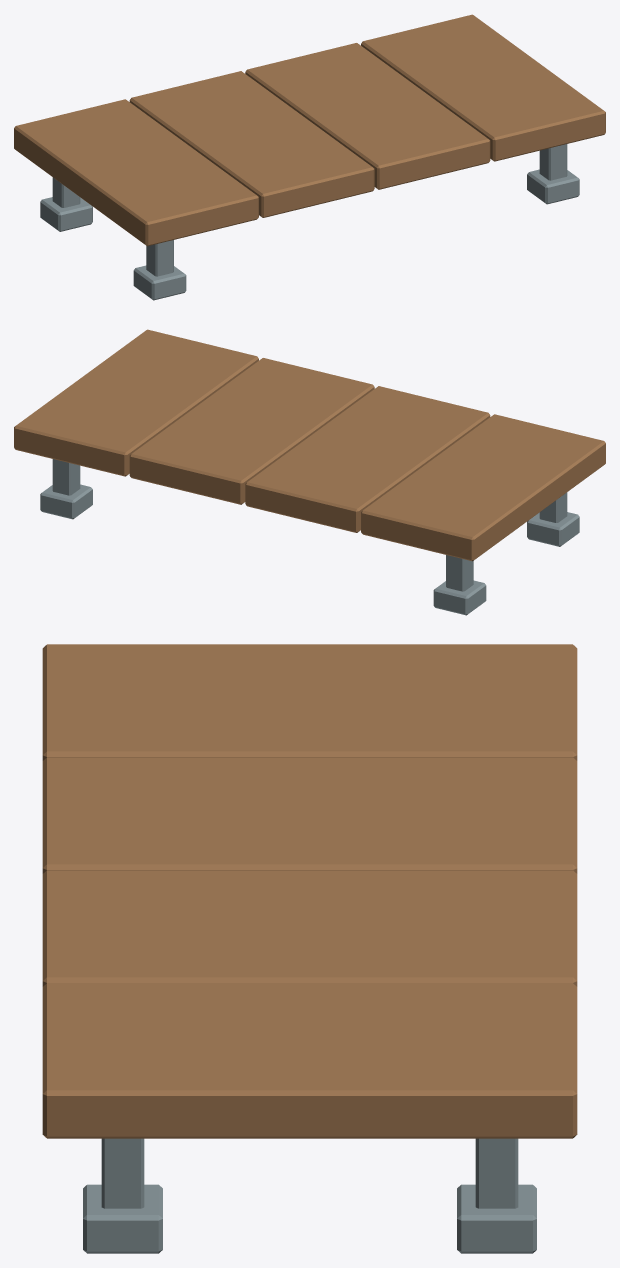
3 views of the same model, one above another, from view 1: azimuth 30°, elevation 25°; view 2: azimuth 150°, elevation 25°; view 3: azimuth 270°, elevation 25° (orthographic). The views are drawn at different scales.
Parts seen in each view (by area): view 1: music-stage-platform-01; view 2: music-stage-platform-01; view 3: music-stage-platform-01.
Boxes of the visible parts, box(x1,y1,x2,y2) form: music-stage-platform-01: box(14, 14, 605, 300); music-stage-platform-01: box(14, 329, 605, 615); music-stage-platform-01: box(42, 644, 577, 1253).
Size of the model in its own units: 1.99 by 0.37 by 1.
